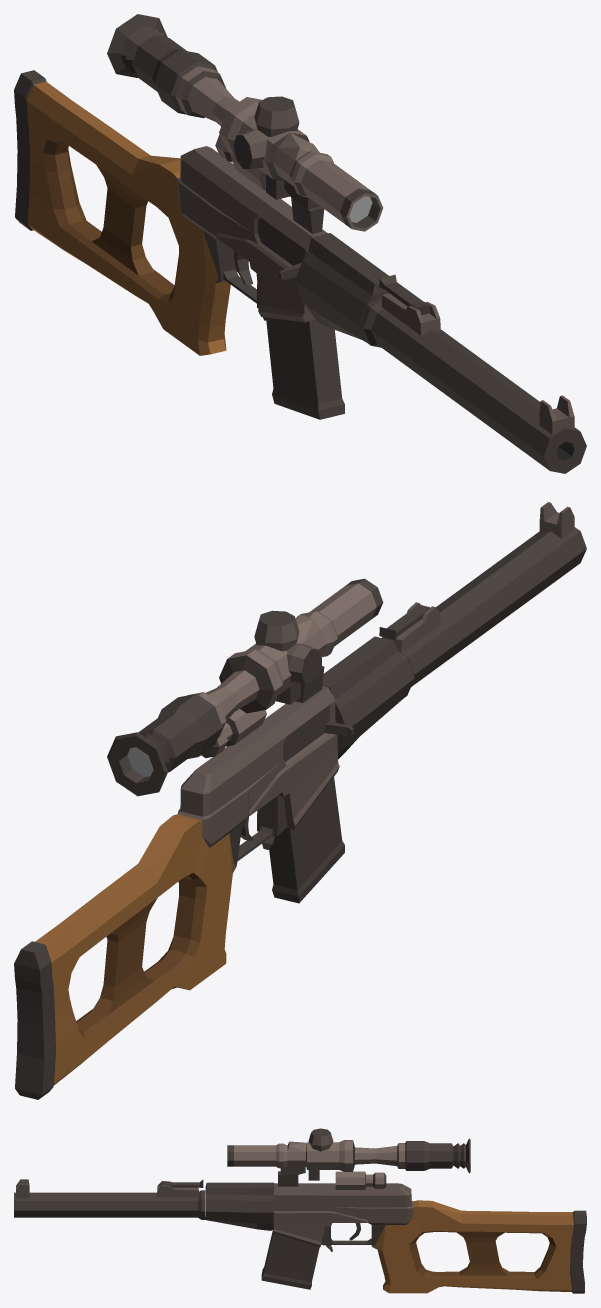
The model's file is VSS_Gun.glb.
3 renders of one model, top to bottom at view 1: azimuth 30°, elevation 25°; view 2: azimuth 150°, elevation 25°; view 3: azimuth 270°, elevation 25°, orthographic. The views are drawn at different scales.
Visible parts, largest first — view 1: Cube, Cube.001; view 2: Cube, Cube.001; view 3: Cube, Cube.001.
Boxes of the visible parts, x1,y1,x2,y2 form: Cube: [14, 14, 586, 473]; Cube.001: [266, 317, 344, 419]; Cube: [14, 502, 586, 1099]; Cube.001: [269, 777, 344, 903]; Cube: [14, 1128, 586, 1293]; Cube.001: [261, 1229, 319, 1289].
Size of the model in its own units: 0.0668 by 0.2837 by 0.9294.
1 material, 1 textured.
